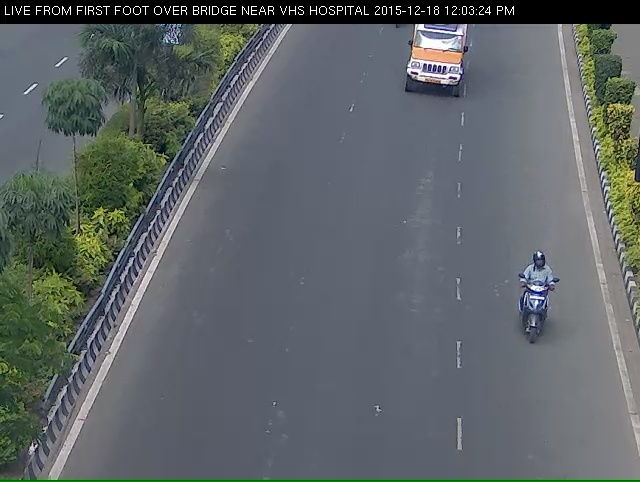Car: (404, 22, 465, 106)
Person: (514, 269, 565, 377)
